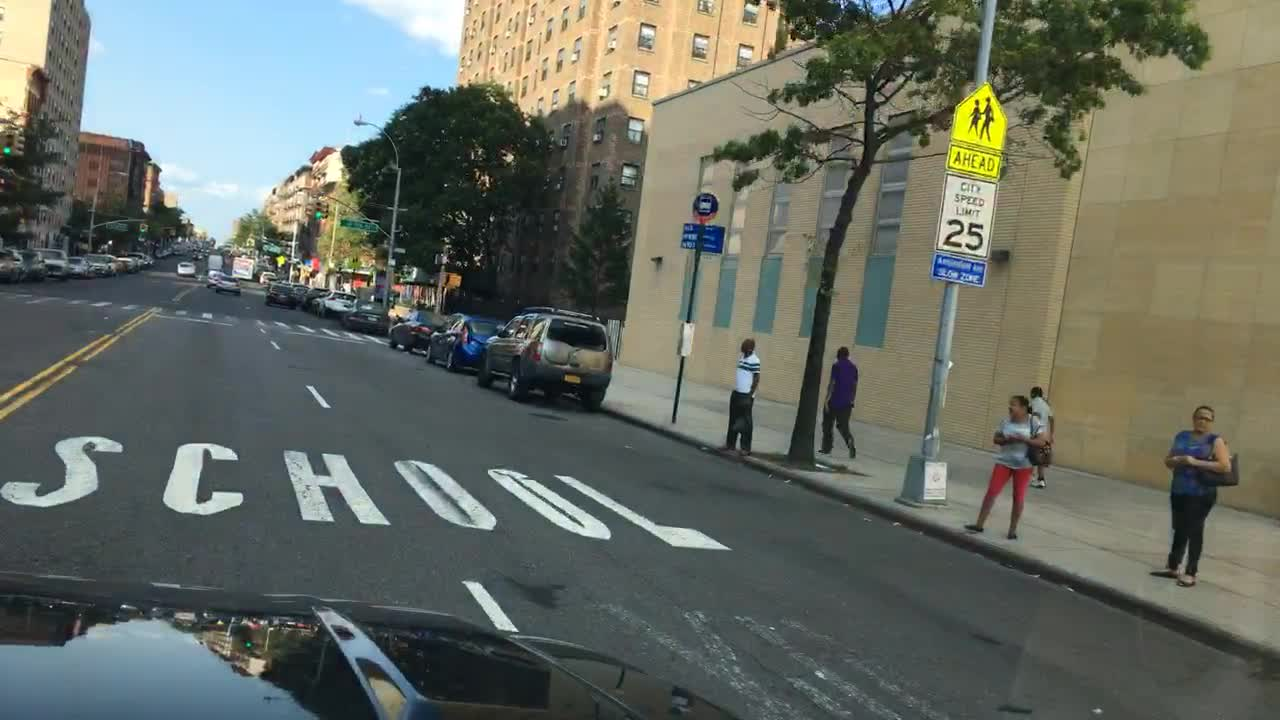car: (473, 304, 611, 413), (424, 311, 506, 371), (389, 309, 448, 352), (340, 297, 386, 331), (0, 245, 38, 281), (261, 276, 300, 308), (37, 248, 73, 281), (319, 289, 356, 320), (20, 248, 49, 283), (86, 250, 118, 277), (304, 283, 329, 310), (213, 273, 241, 297), (69, 254, 93, 277), (233, 254, 255, 278), (115, 252, 141, 270), (290, 281, 308, 303), (176, 260, 197, 278), (128, 252, 151, 268), (206, 253, 225, 270), (206, 269, 225, 286), (258, 271, 276, 286), (253, 262, 268, 279), (139, 253, 155, 268), (192, 247, 210, 260), (172, 244, 186, 259), (508, 353, 512, 372)
person: (1147, 400, 1241, 587), (961, 391, 1046, 542), (719, 336, 762, 452), (815, 345, 858, 460), (1027, 383, 1058, 481)
traffic light: (4, 129, 17, 157), (14, 128, 25, 158), (443, 272, 461, 290), (312, 199, 323, 220), (320, 201, 329, 222), (303, 199, 312, 219)
traffic sign: (942, 81, 1009, 182), (937, 168, 1001, 256), (927, 248, 991, 287), (680, 222, 722, 253), (690, 193, 719, 221), (337, 219, 382, 234), (678, 320, 694, 354), (103, 220, 128, 231)
